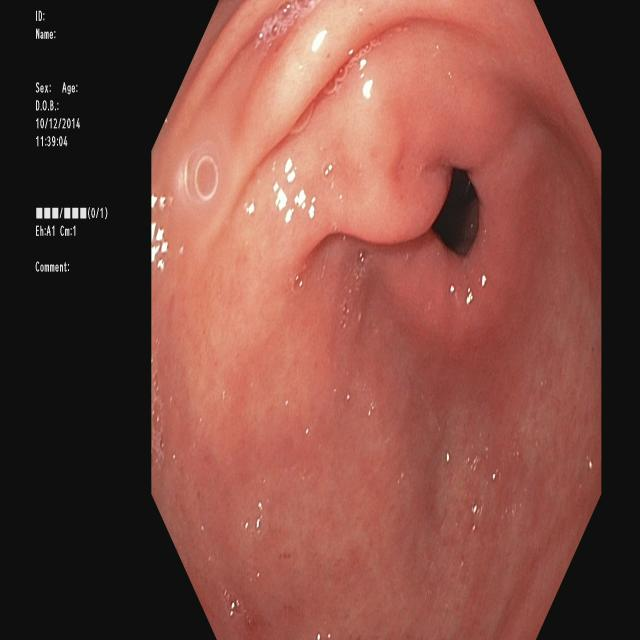normal-pylorus: (216, 21, 525, 330)
